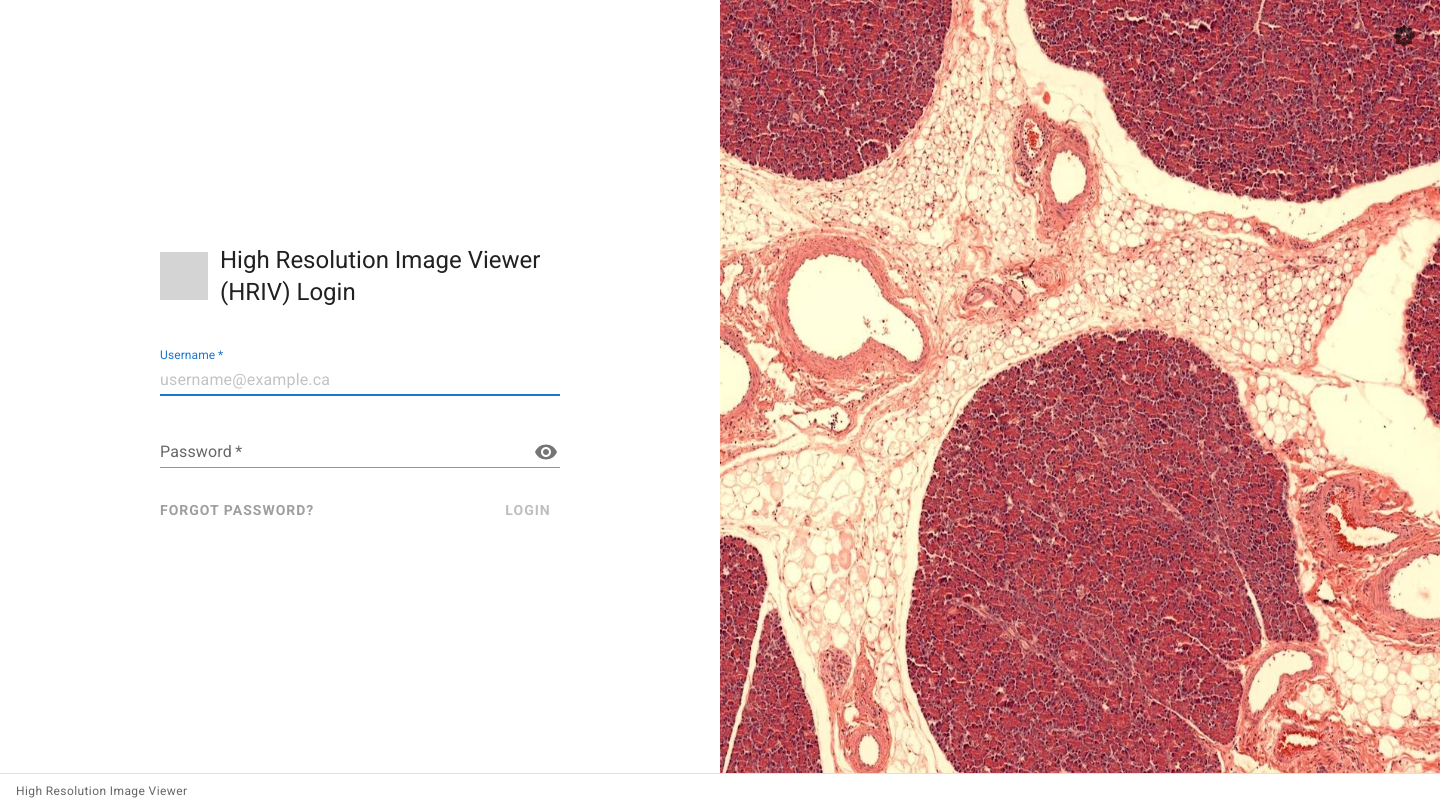
Test case: LoginScreen › local form submission › shows a rate-limit message when login returns 429
The width and height of the screenshot is (1440, 810).
In the field with placeholder "username@example.ca": (360, 380) [160, 364, 560, 396], type "admin@example.ca"
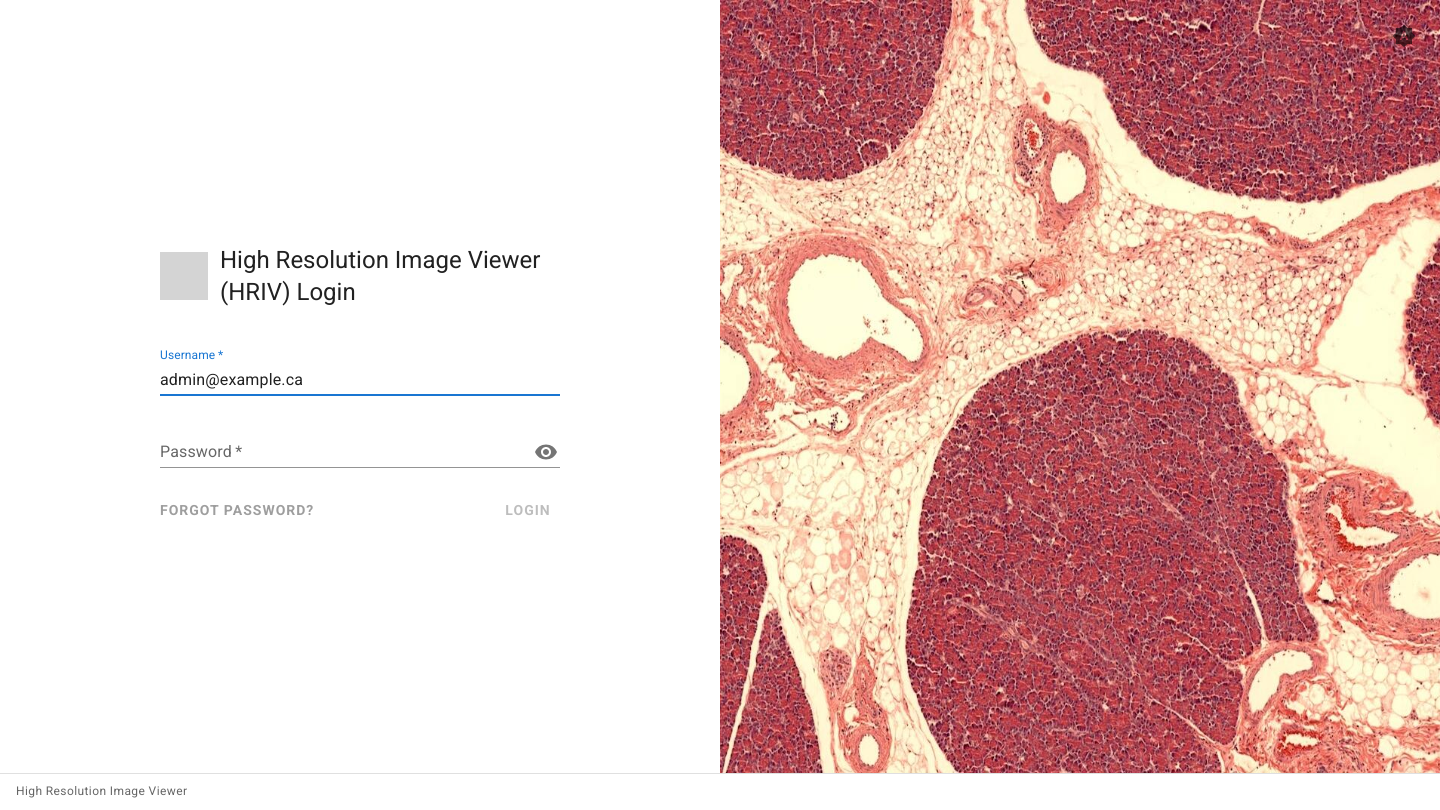
In the password field with placeholder "Password": (340, 452) [160, 436, 521, 468], type "wrong"
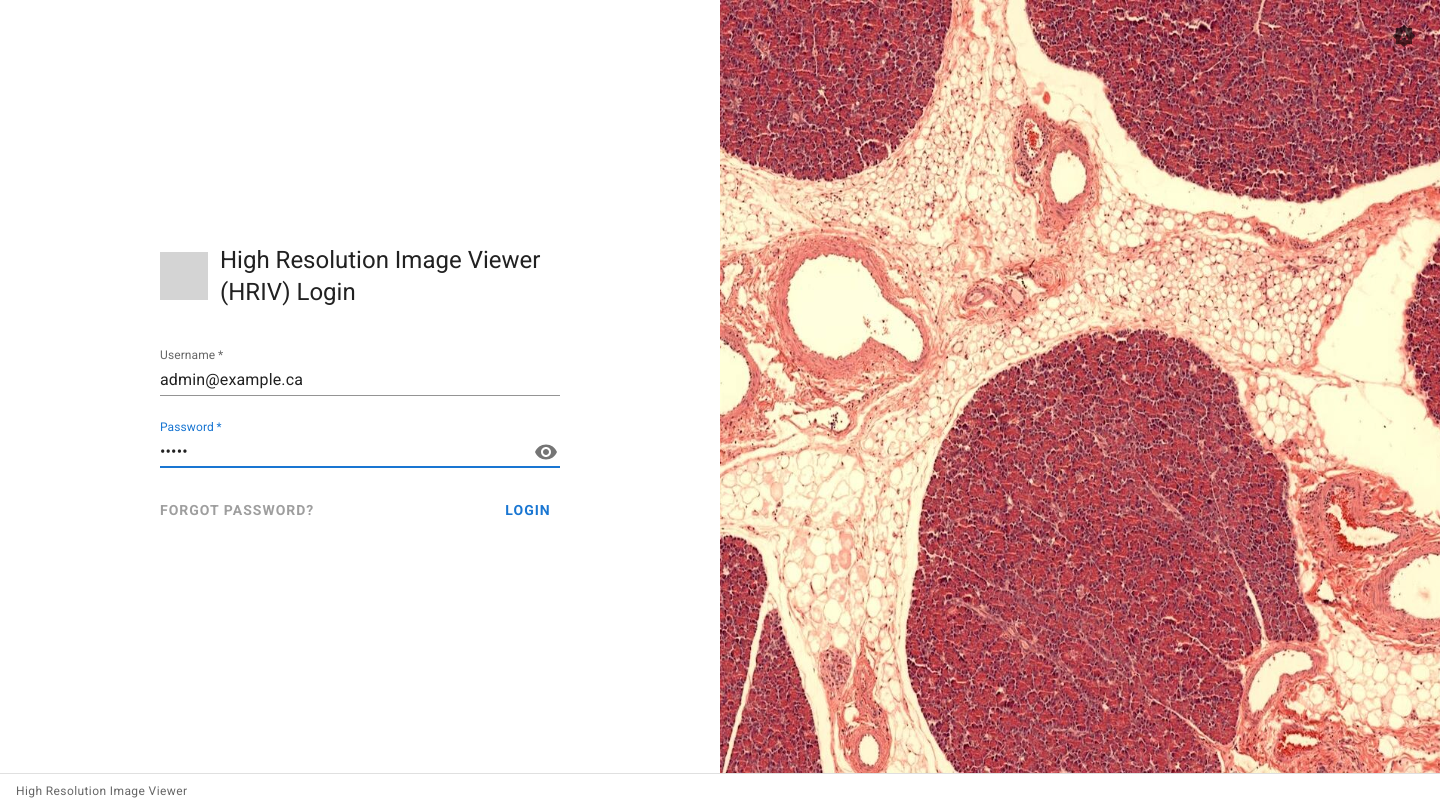
Click the button "LOGIN": (528, 511) [496, 492, 560, 529]
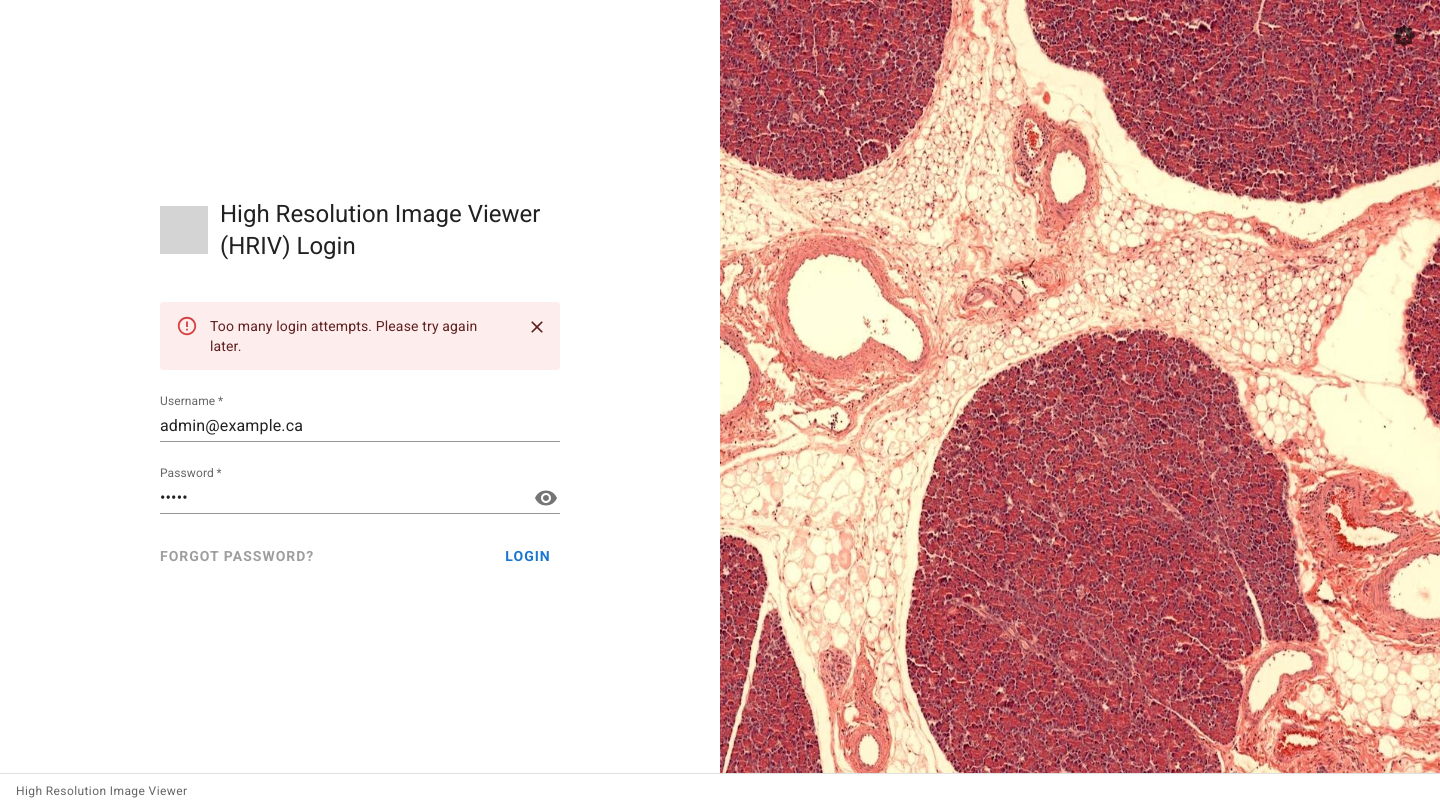
Check: the text "Too many login attempts. Please try again later." is shown, box [210, 308, 506, 364]
